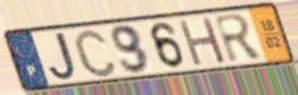6: (148, 21, 187, 70)
9: (109, 23, 153, 76)
C: (71, 27, 120, 79)
H: (176, 15, 229, 68)
J: (47, 30, 79, 83)
R: (211, 12, 267, 65)
